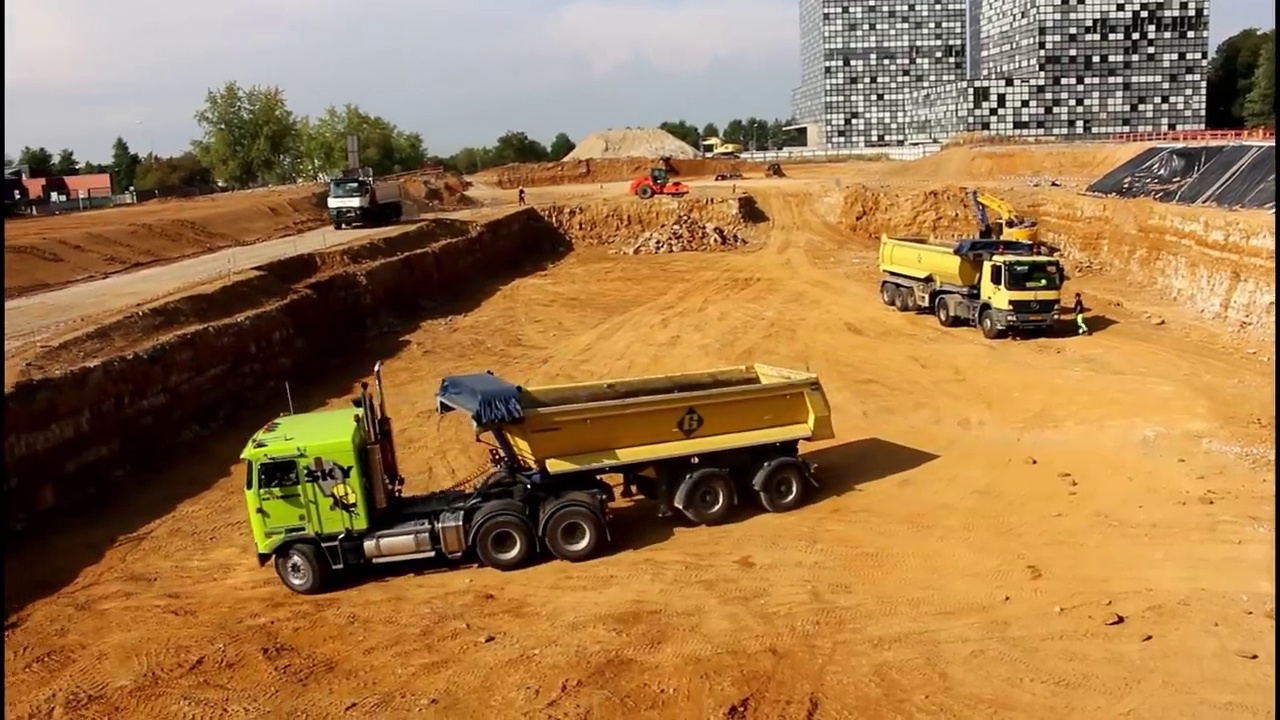compactor: (627, 167, 693, 199)
excavator: (962, 189, 1047, 292), (696, 134, 744, 165)
truck: (236, 355, 843, 598), (874, 230, 1067, 340), (324, 174, 409, 230)
worker: (1071, 288, 1093, 337), (515, 179, 530, 212)
